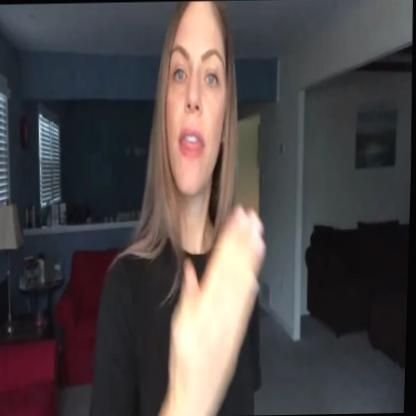ThankYou: (131, 0, 273, 416)
